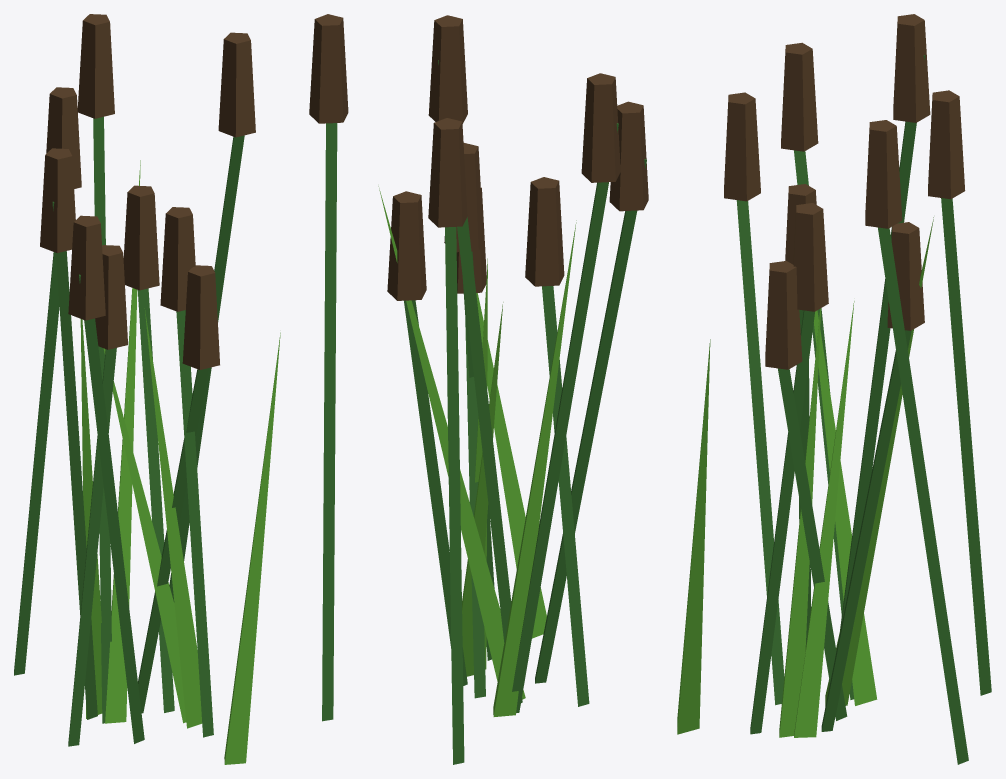
The model's file is reeds_2.glb.
The picture shows the model from 3 angles, left to right: view 1: azimuth 30°, elevation 25°; view 2: azimuth 150°, elevation 25°; view 3: azimuth 270°, elevation 25°; orthographic projection. The views are drawn at different scales.
Visible parts, largest first — view 1: reeds_2; view 2: reeds_2; view 3: reeds_2.
Part boxes in pixels (x1,y1,x2,y2): reeds_2: [14, 14, 280, 764]; reeds_2: [309, 14, 648, 764]; reeds_2: [677, 14, 991, 764].
Bounding box in the file's own units: 0.8075 × 2.06 × 0.8426.
